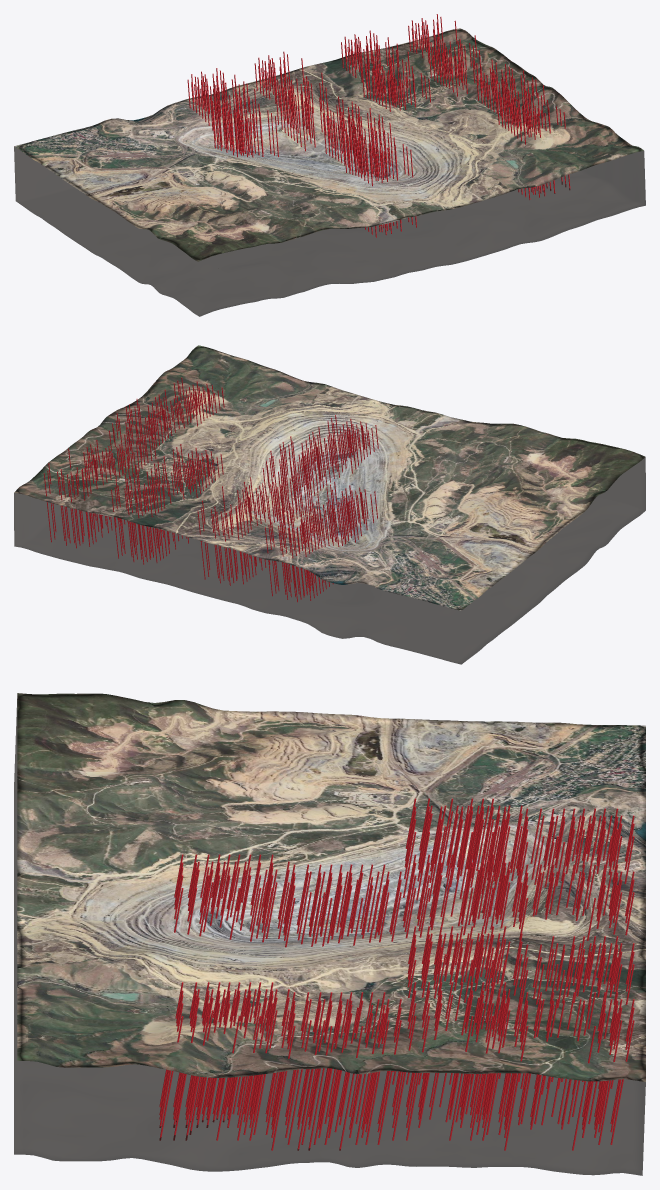
Rendered from olmaliq_grr.glb.
The picture shows the model from 3 angles, top to bottom: view 1: azimuth 30°, elevation 25°; view 2: azimuth 150°, elevation 25°; view 3: azimuth 270°, elevation 25°; orthographic projection. The views are drawn at different scales.
Parts seen in each view (by area): view 1: EXPORT_GOOGLE_SAT_WM.001; view 2: EXPORT_GOOGLE_SAT_WM.001; view 3: EXPORT_GOOGLE_SAT_WM.001.
Boxes of the visible parts, x1=… form: EXPORT_GOOGLE_SAT_WM.001: x1=14, y1=28, x2=645, y2=316; EXPORT_GOOGLE_SAT_WM.001: x1=14, y1=345, x2=645, y2=664; EXPORT_GOOGLE_SAT_WM.001: x1=14, y1=693, x2=645, y2=1175.
Size of the model in its own units: 648 by 133 by 465.
628 materials, 1 textured.
